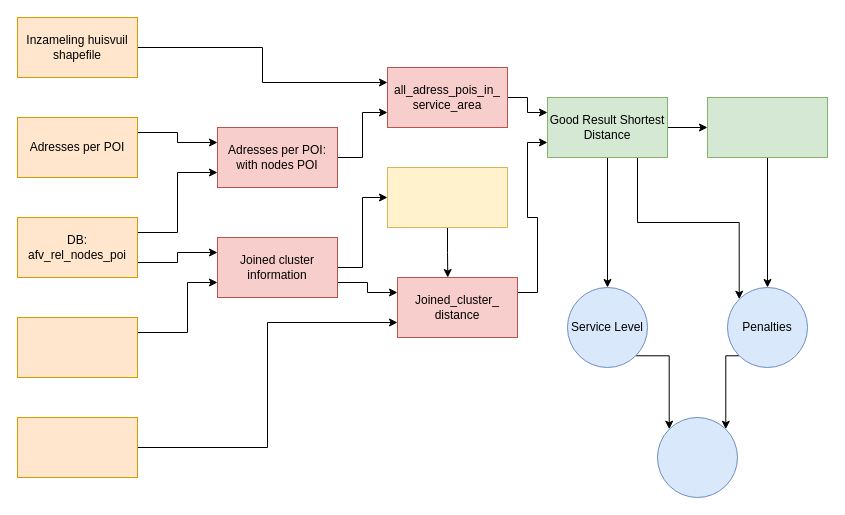
This 845x515 diagram has some shape labels left out. The centre of each missing label's shape, as x and y in pixels:
"Aansluitingen" goes at [767,127].
"DB: afv_poi_afstand" goes at [77,447].
"Garbage Cluster API" goes at [77,347].
"Optimization Algoritms" goes at [447,197].
"Score" goes at [697,457].
